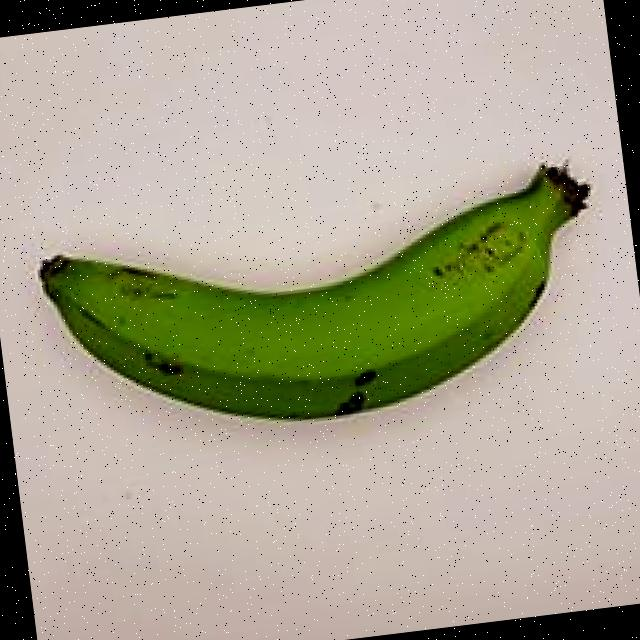Raw: (19, 142, 626, 465)
